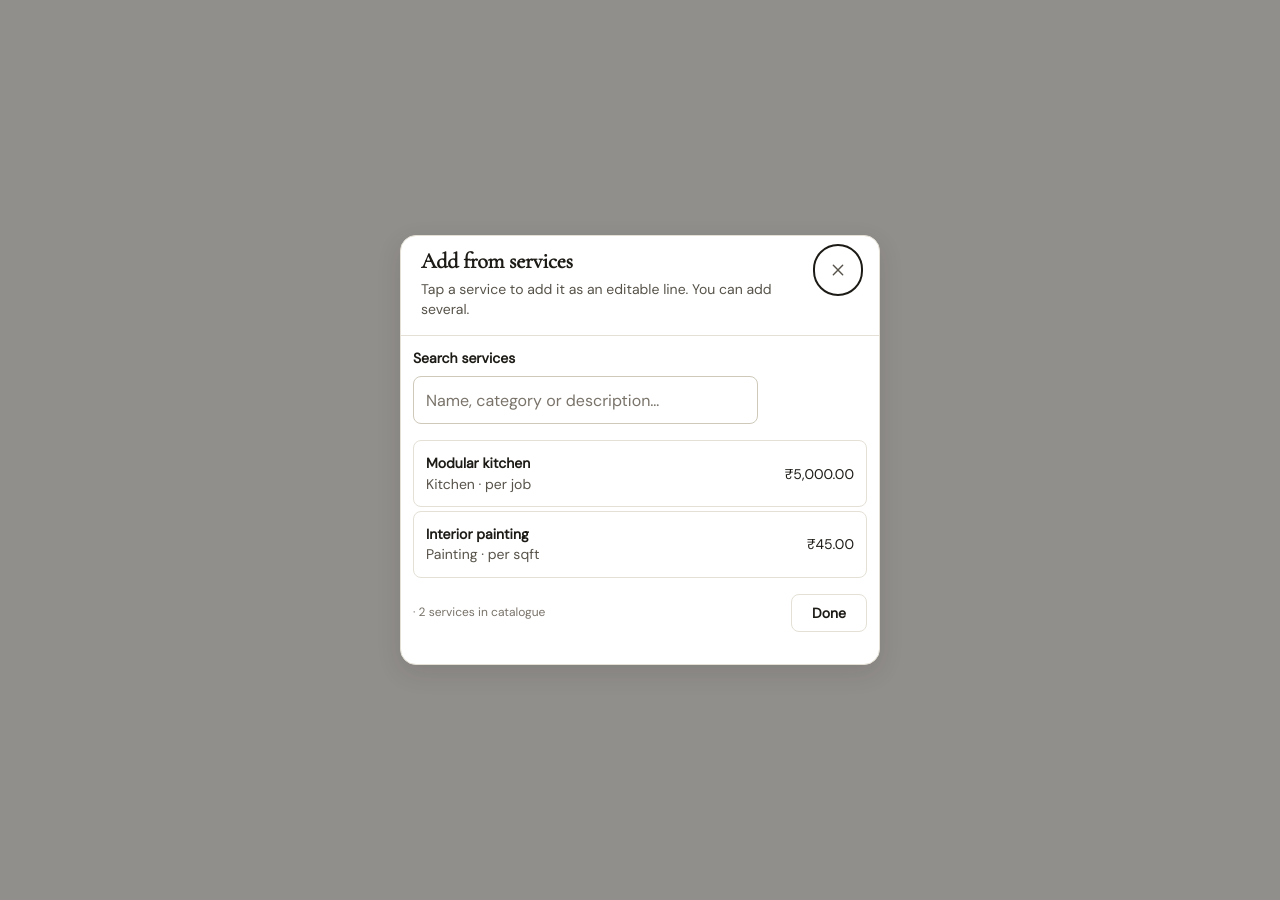
Test: ServicePicker — adding lines › counts what has been added so far
Click the button "Modular kitchen Kitchen · per job ₹5,000.00" at (478, 463), box [413, 440, 867, 507]
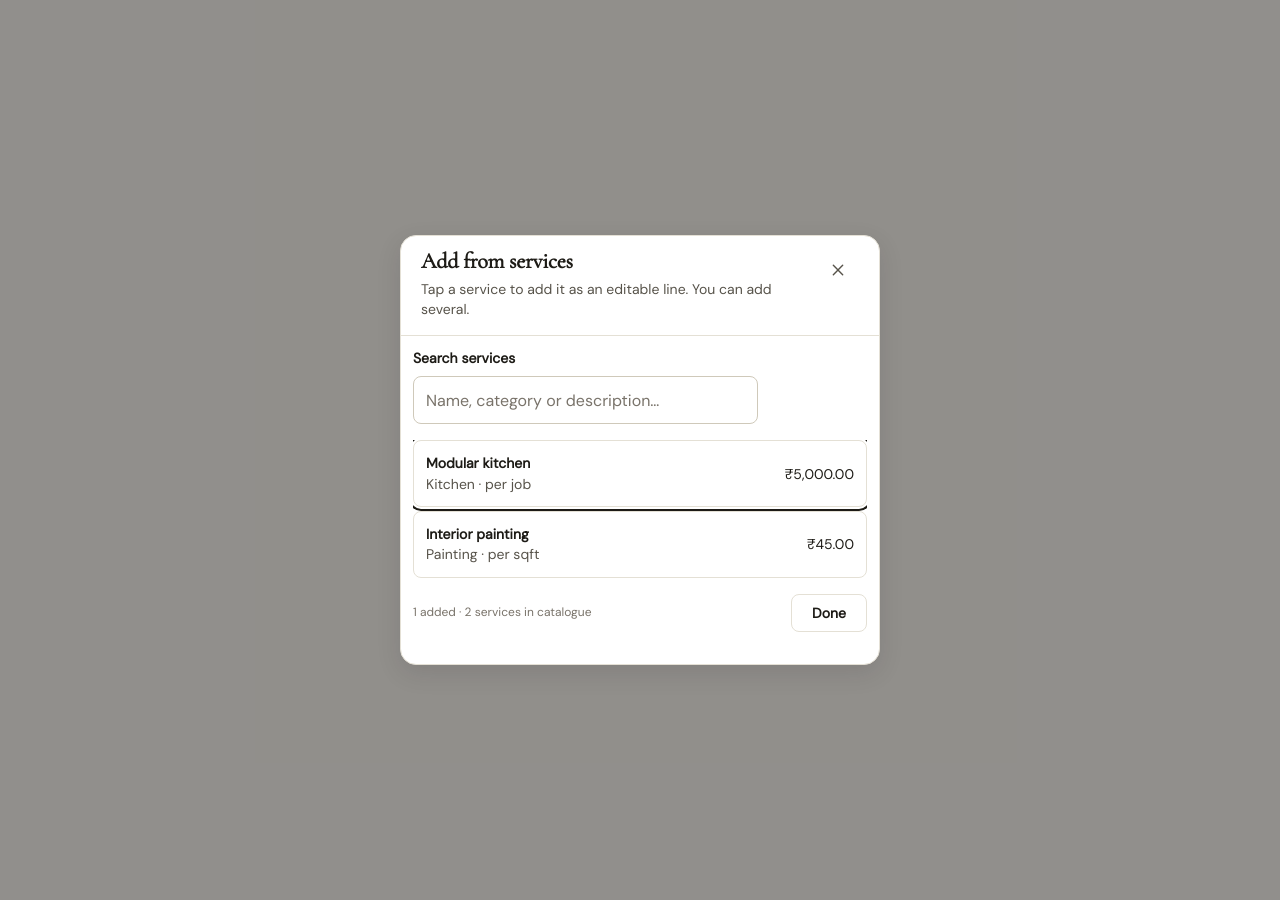
Click the button "Interior painting Painting · per sqft ₹45.00" at (477, 534), box [413, 511, 867, 578]
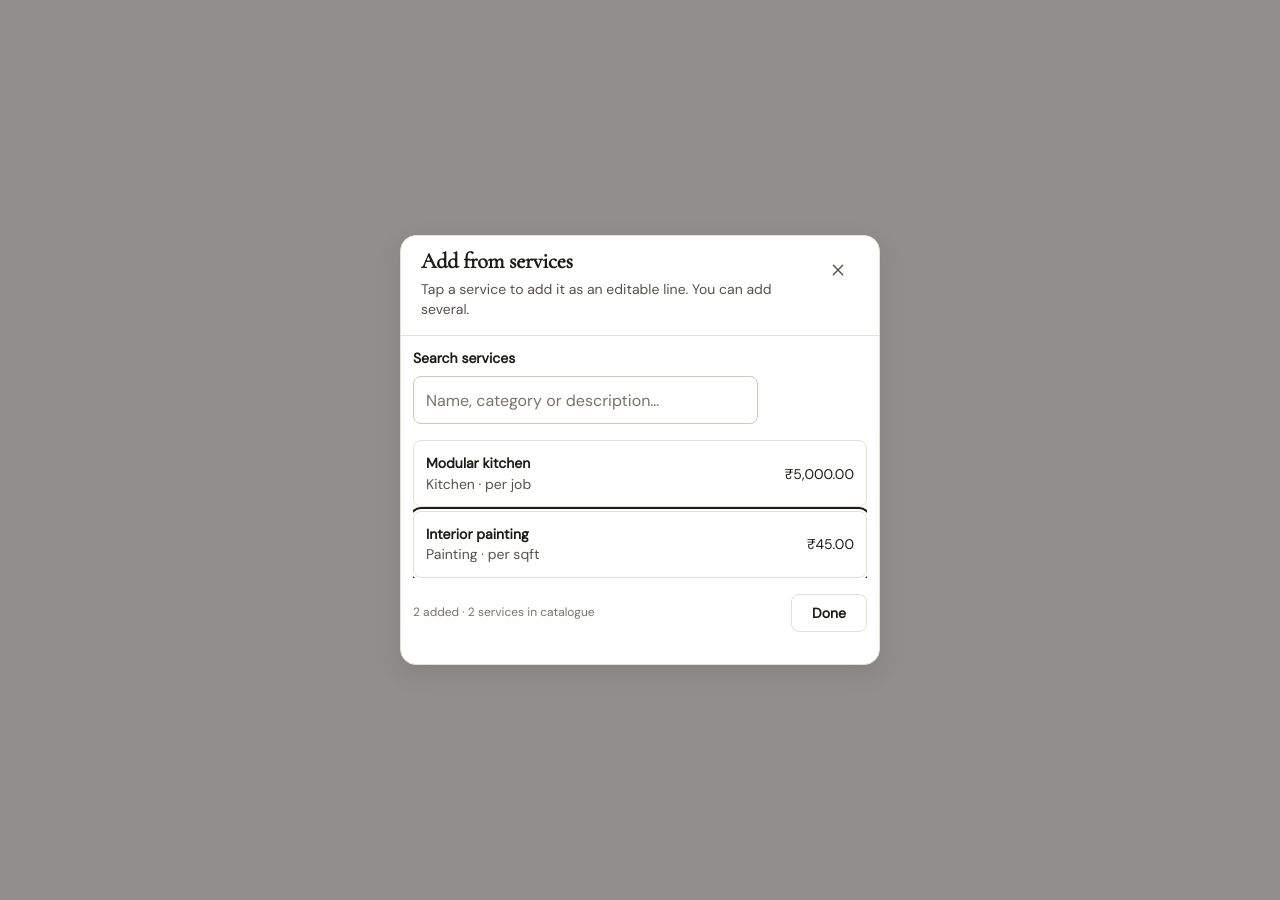
expect the text "2 added · 2 services in catalogue" is shown: met, box [413, 604, 595, 621]
